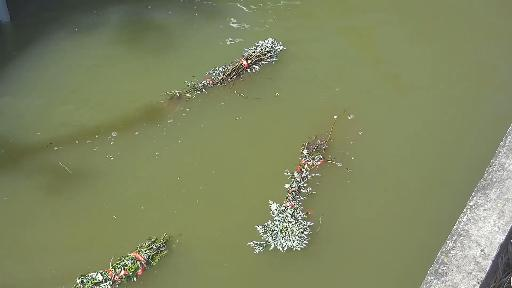twig: (249, 104, 358, 258), (155, 35, 288, 109), (67, 228, 179, 288)
